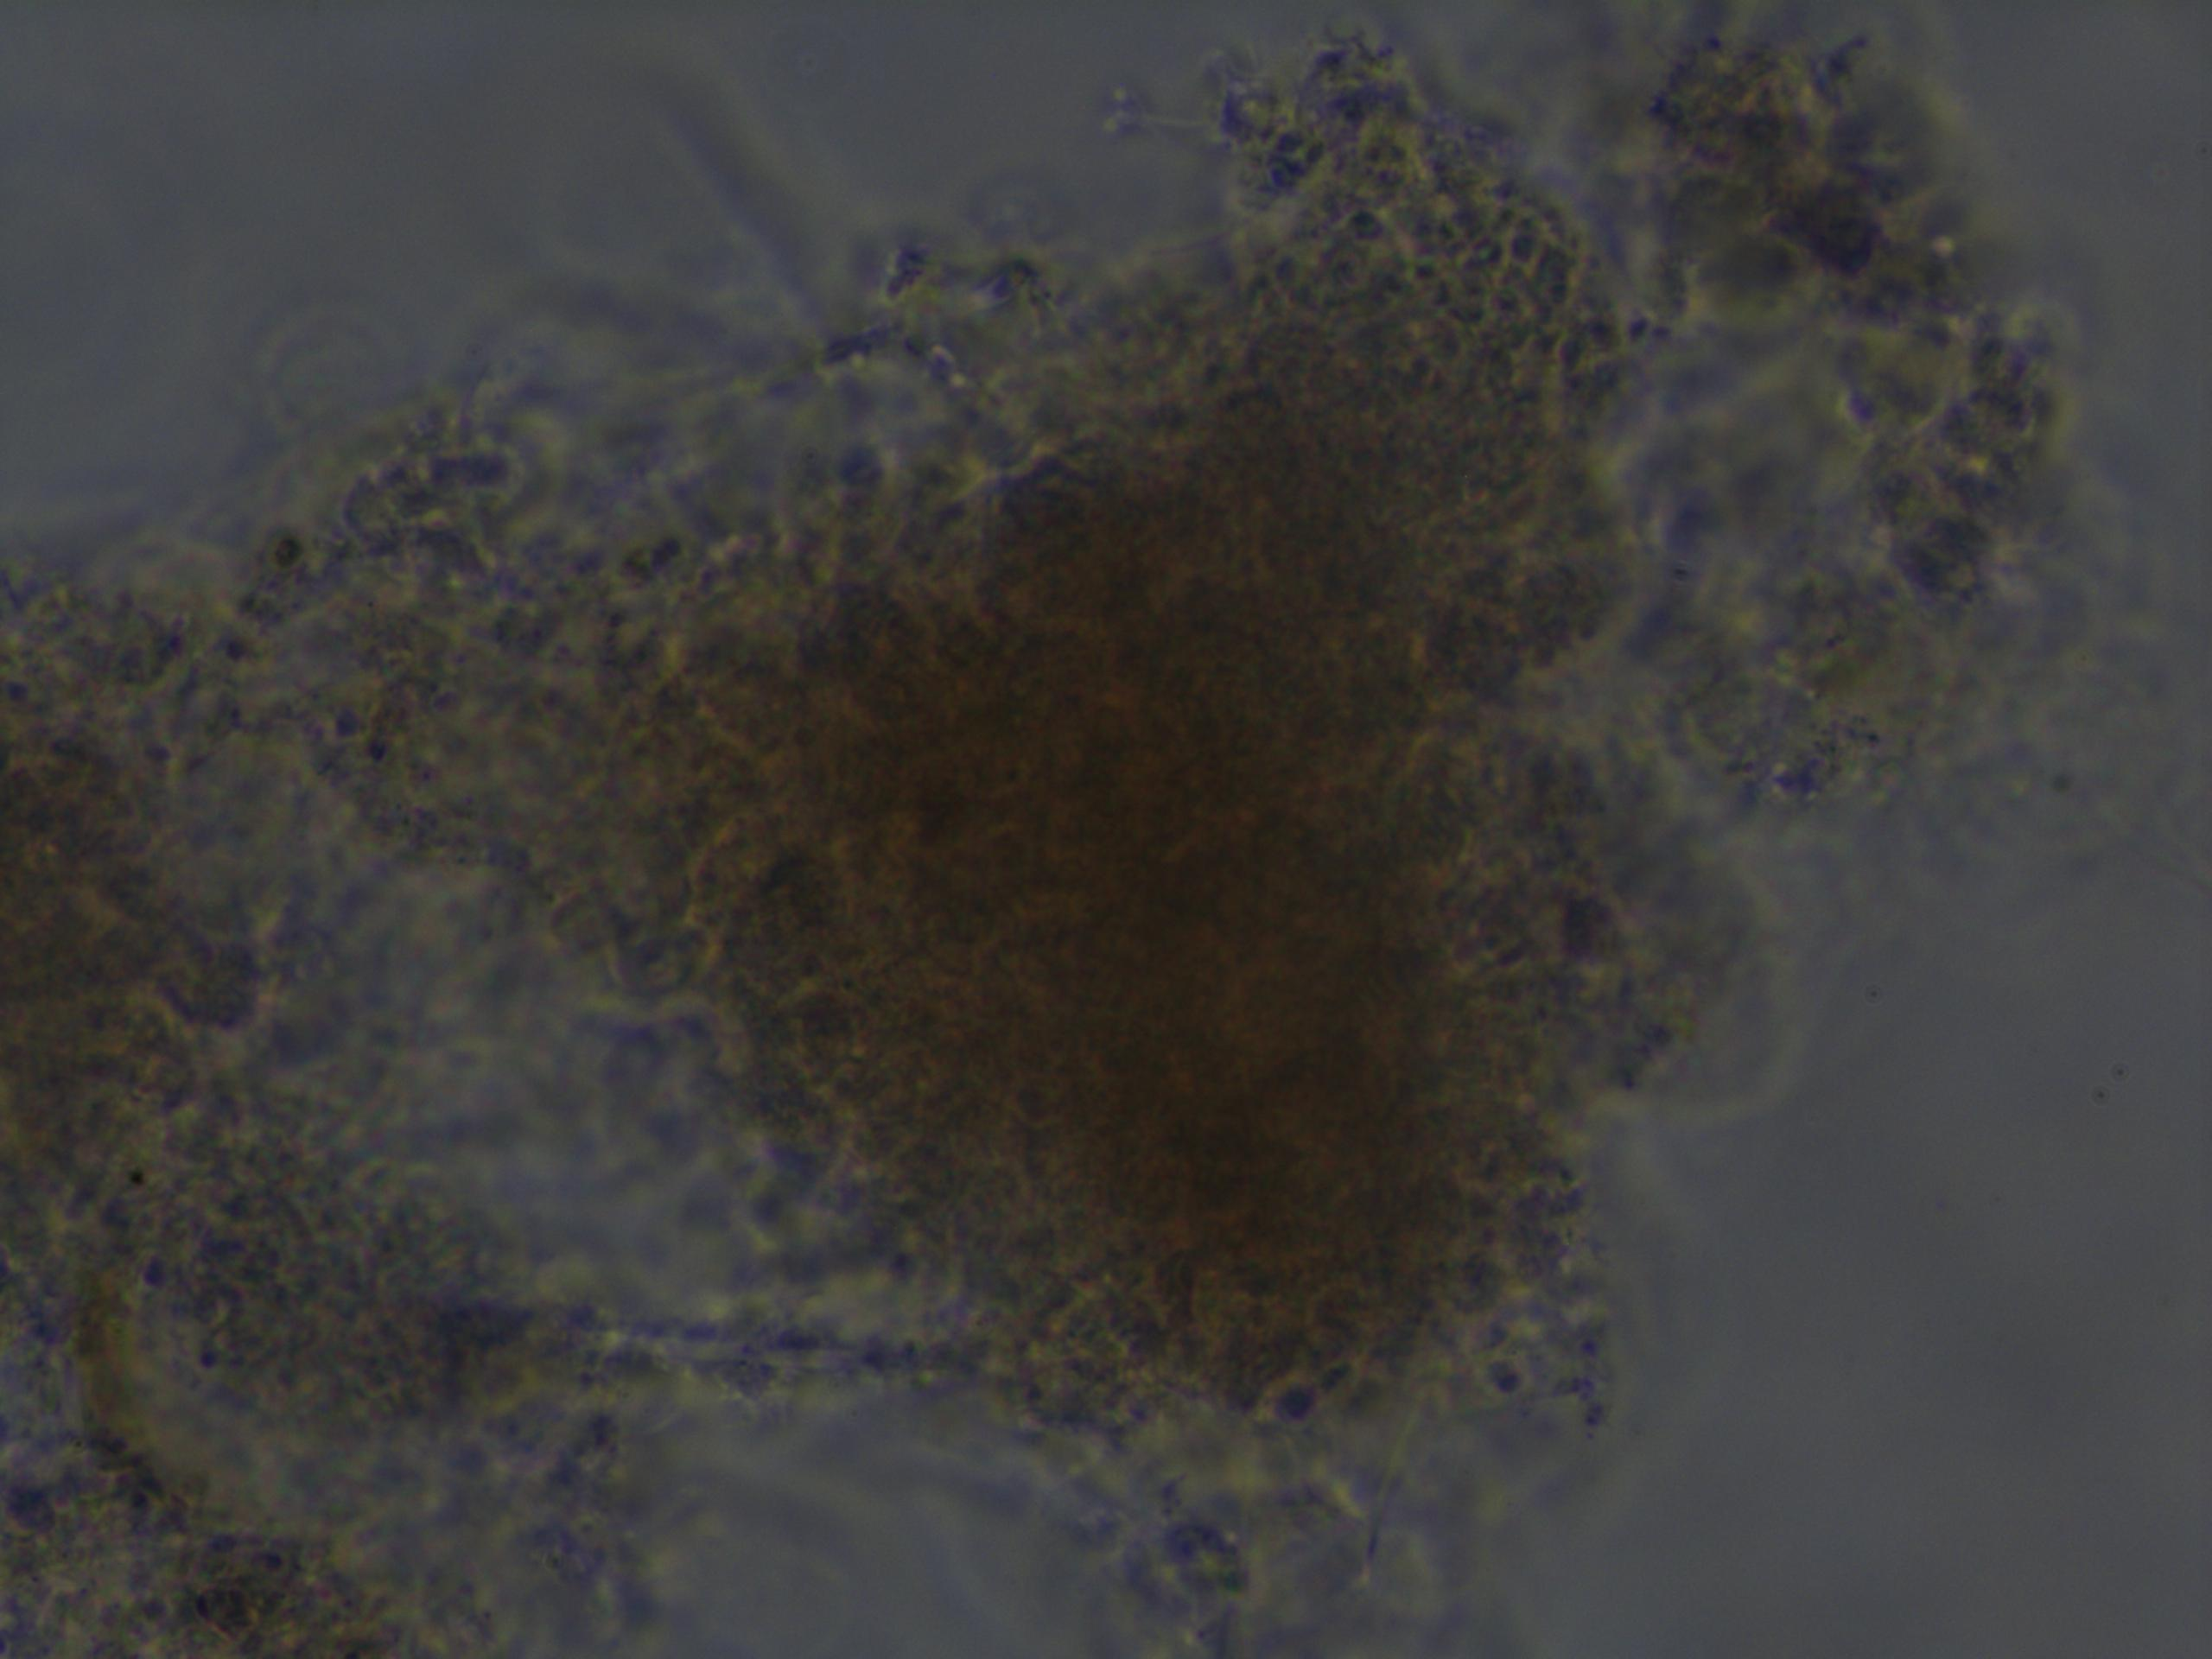filament: (582, 1291, 1209, 1659)
